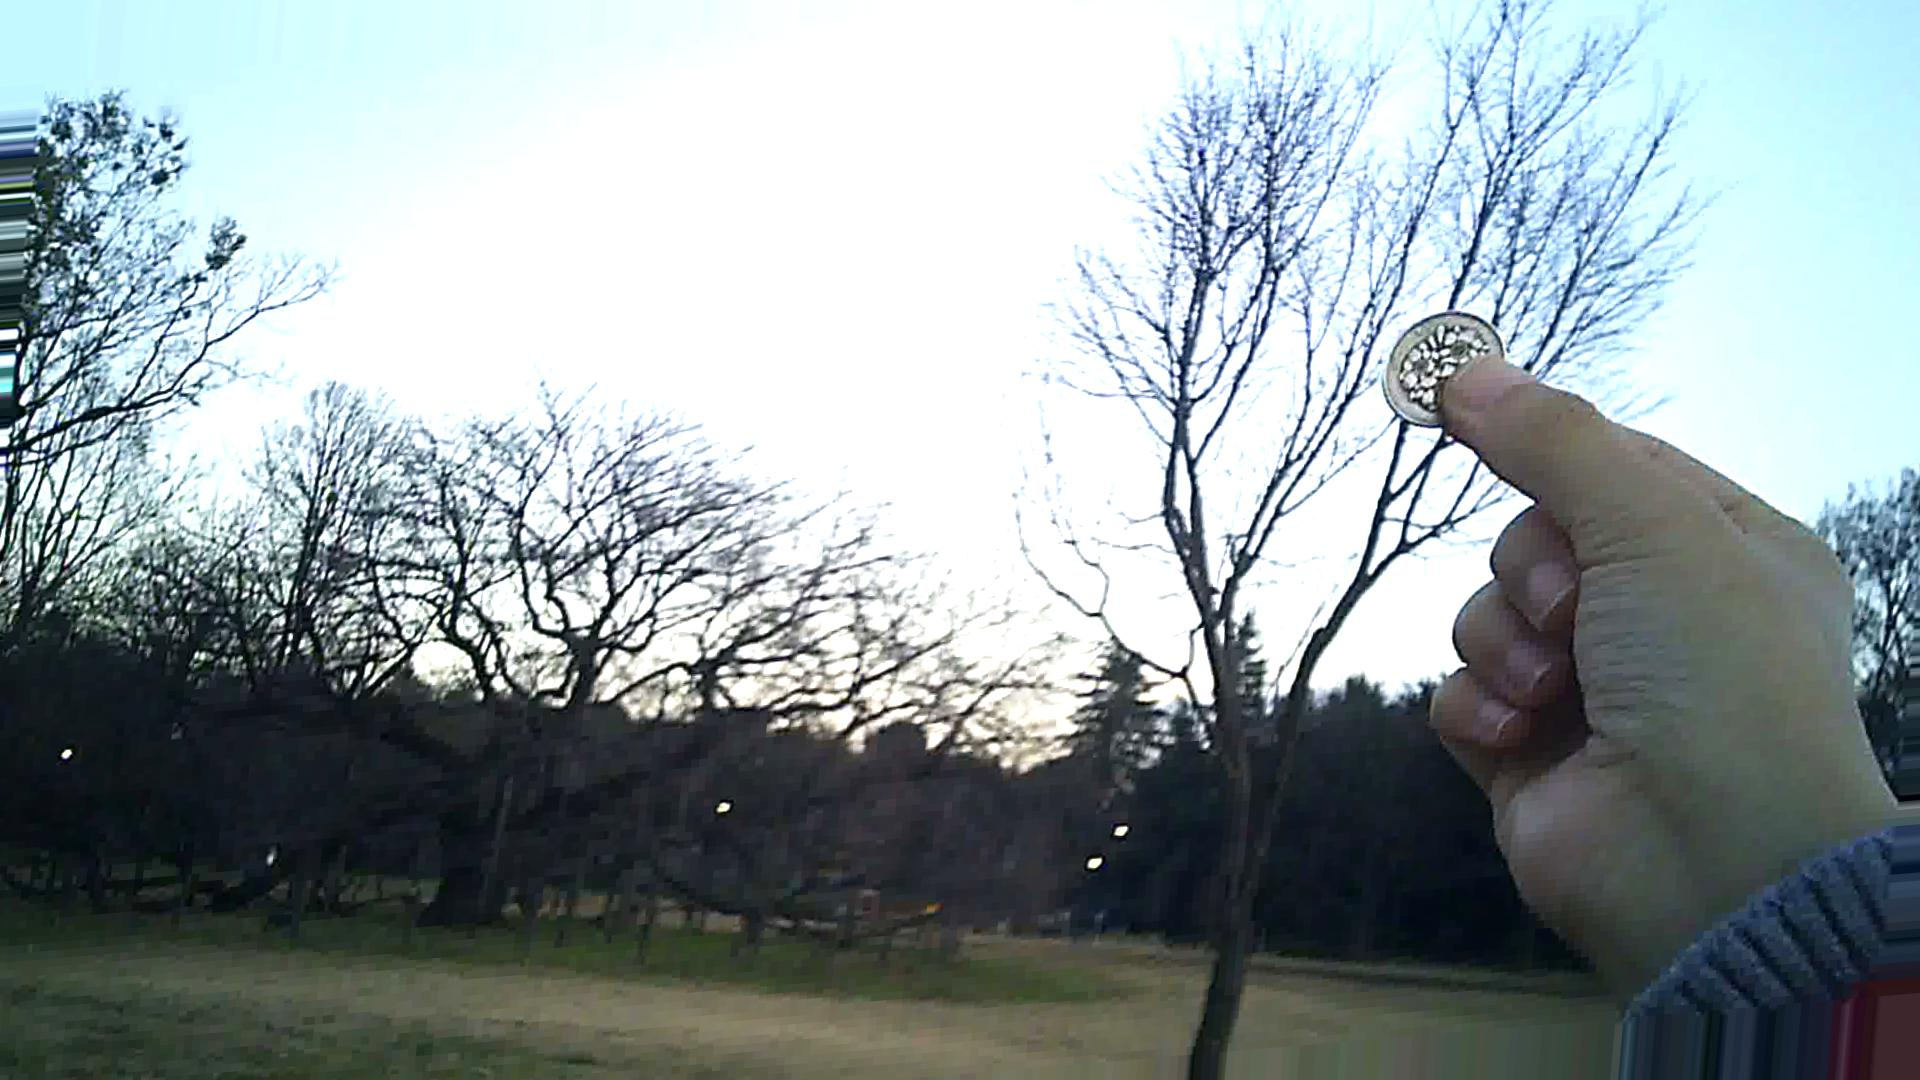100 Yen: (1381, 306, 1503, 429)
